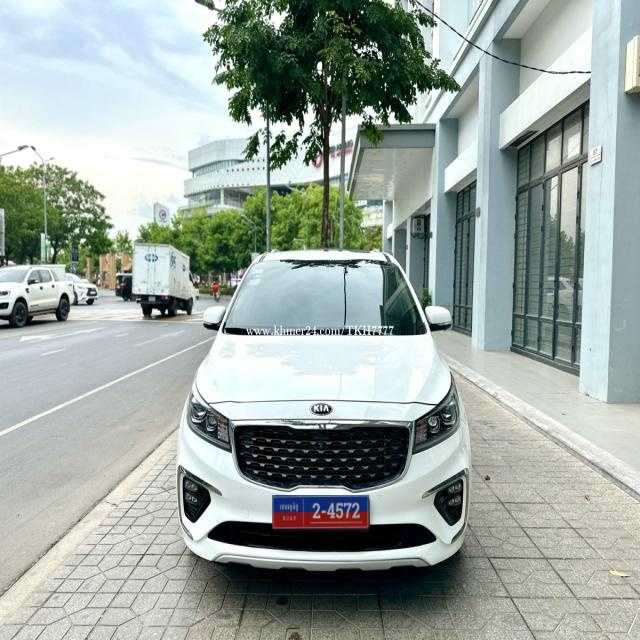Plate Number: (272, 495, 370, 529)
